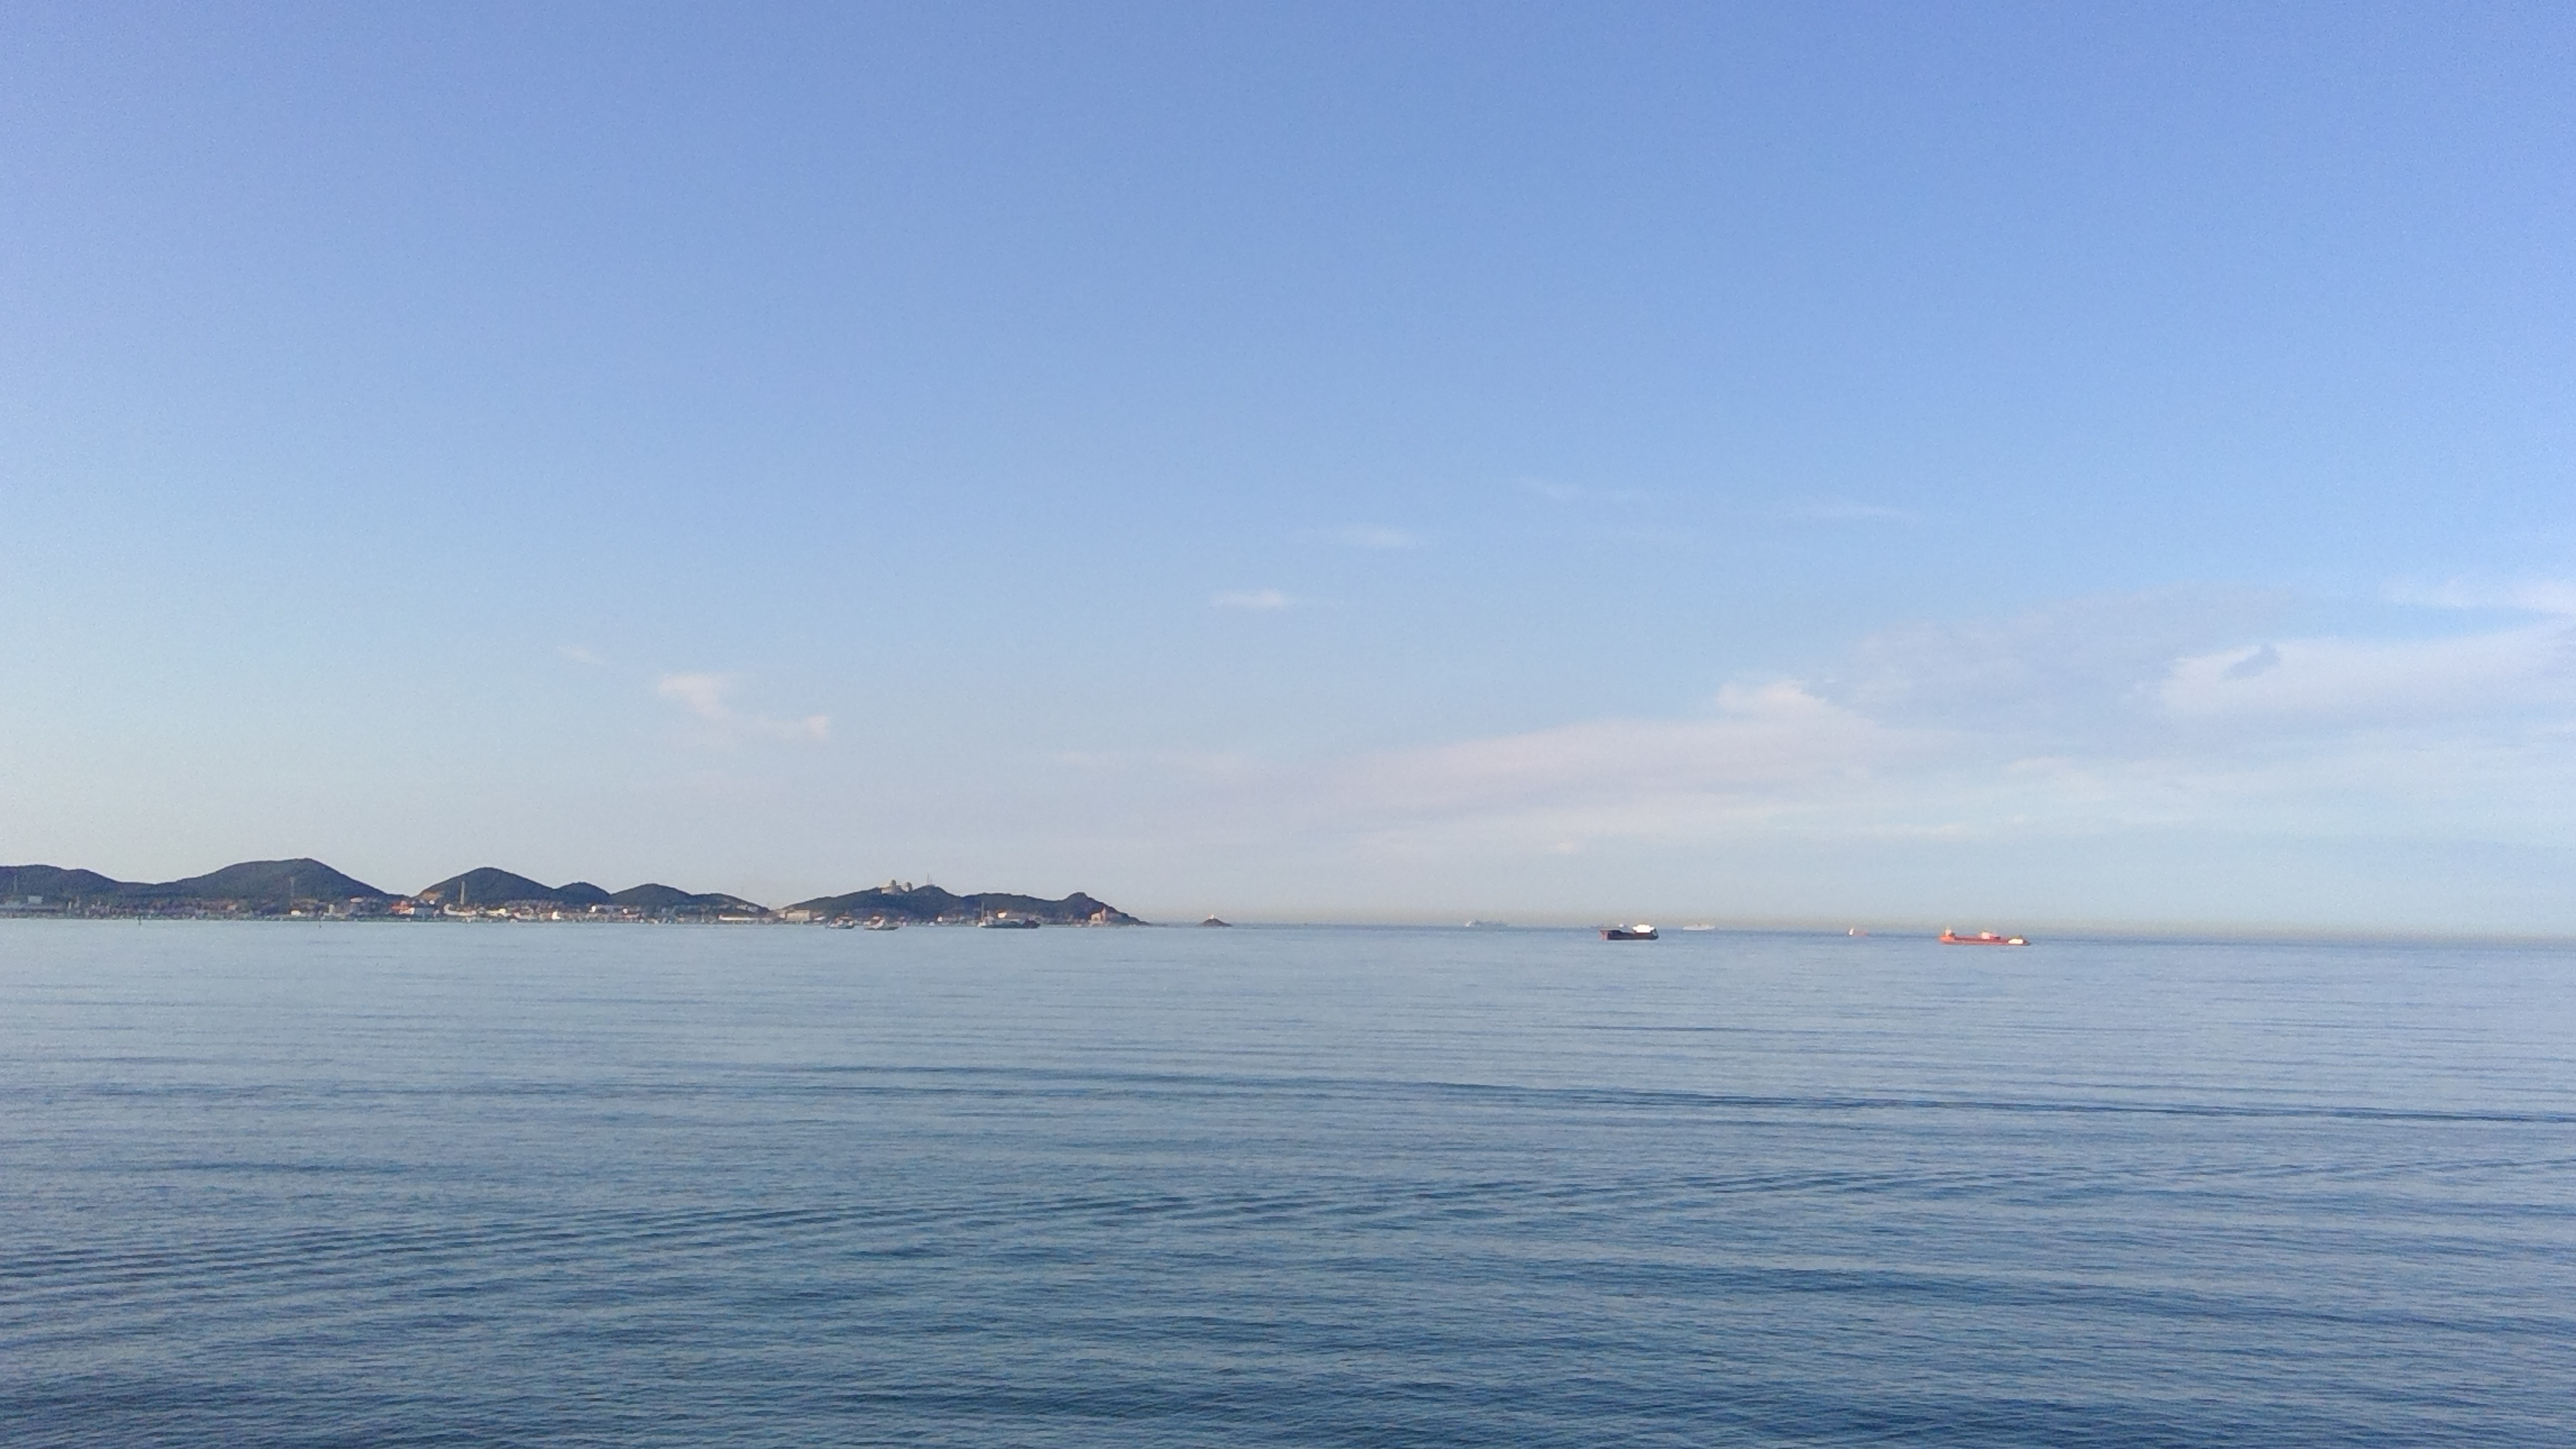boat: (1596, 916, 1667, 948)
platform: (791, 865, 1131, 948), (570, 846, 775, 925), (166, 846, 370, 913), (0, 856, 152, 915), (407, 862, 557, 918), (1930, 922, 2040, 954)
